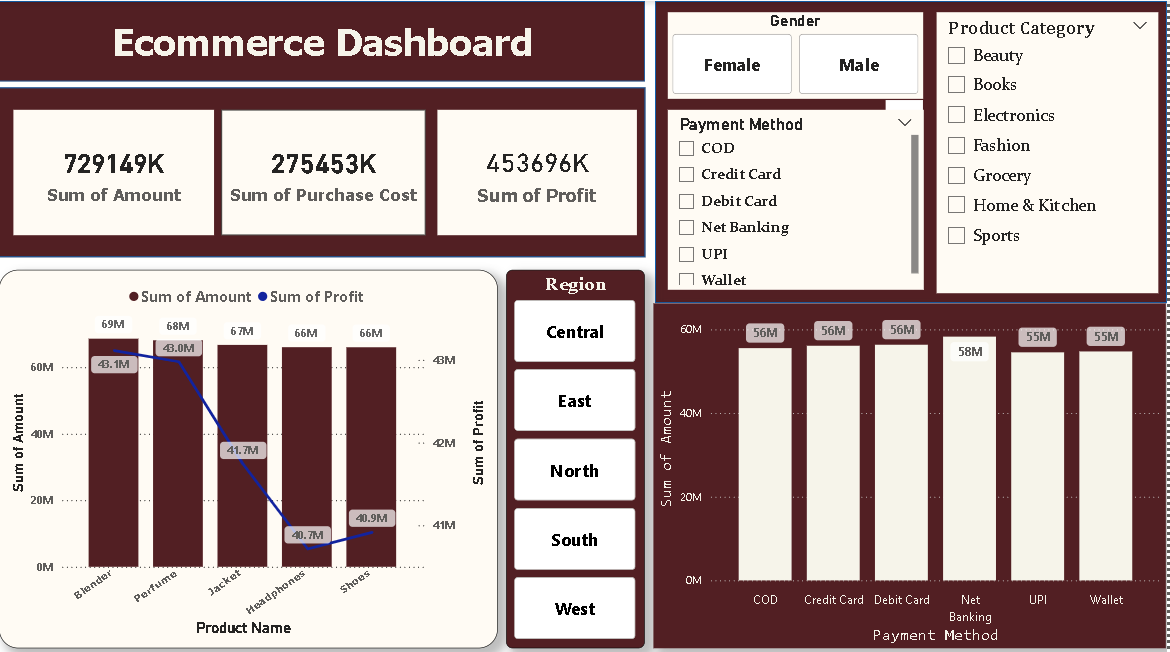

This screenshot's page, from the dashboard's own definition file:
{"tool":"powerbi","page":{"name":"Dashboard","canvas":[1280,720],"ordinal":0},"visuals":[{"type":"shape","box":[0,0,708.3,88.3],"z":0},{"type":"shape","box":[0,95,708.8,186.2],"z":1000},{"type":"card","fields":{"Values":["Sum(Ecommerce Sales Data.Amount)"]},"box":[15,120,220,137.5],"z":2000},{"type":"card","fields":{"Values":["Sum(Ecommerce Sales Data.Purchase Cost)"]},"box":[243.8,120,223.8,137.5],"z":3000},{"type":"card","fields":{"Values":["Sum(Ecommerce Sales Data.Profit)"]},"box":[480,120,218.8,137.5],"z":4000},{"type":"lineClusteredColumnComboChart","fields":{"Category":["Ecommerce Sales Data.Product Name"],"Y":["Sum(Ecommerce Sales Data.Amount)"],"Y2":["Sum(Ecommerce Sales Data.Profit)"]},"box":[0,295,546.7,415],"z":5000},{"type":"shape","box":[718.8,0,561.2,331.2],"z":6000},{"type":"slicer","fields":{"Values":["Ecommerce Sales Data.Product Category"]},"box":[1028.3,11.7,243.3,308.3],"z":7000},{"type":"advancedSlicerVisual","fields":{"Values":["Ecommerce Sales Data.Gender"]},"box":[733.3,11.7,280,95],"z":8000},{"type":"slicer","fields":{"Values":["Ecommerce Sales Data.Payment Method"]},"box":[733.3,120,280,196.7],"z":9000},{"type":"advancedSlicerVisual","fields":{"Values":["Ecommerce Sales Data.Region"]},"box":[556.7,295,151.7,415],"z":10000},{"type":"lineClusteredColumnComboChart","fields":{"Y":["Sum(Ecommerce Sales Data.Amount)"],"Category":["Ecommerce Sales Data.Payment Method","Ecommerce Sales Data.City"]},"box":[718.3,331.7,561.7,378.3],"z":11000}]}

Visuals, with their boxes in screenshot pixels (x1, y1, x2, y2), scaled from the page's 1280x720 canvas onto the 1170x652 screenshot:
shape: {"left": 0, "top": 0, "right": 647, "bottom": 80}
shape: {"left": 0, "top": 86, "right": 648, "bottom": 255}
card - Sum(Ecommerce Sales Data.Amount): {"left": 14, "top": 109, "right": 215, "bottom": 233}
card - Sum(Ecommerce Sales Data.Purchase Cost): {"left": 223, "top": 109, "right": 427, "bottom": 233}
card - Sum(Ecommerce Sales Data.Profit): {"left": 439, "top": 109, "right": 639, "bottom": 233}
lineClusteredColumnComboChart - Ecommerce Sales Data.Product Name x Sum(Ecommerce Sales Data.Amount): {"left": 0, "top": 267, "right": 500, "bottom": 643}
shape: {"left": 657, "top": 0, "right": 1169, "bottom": 300}
slicer - Ecommerce Sales Data.Product Category: {"left": 940, "top": 11, "right": 1162, "bottom": 290}
advancedSlicerVisual - Ecommerce Sales Data.Gender: {"left": 670, "top": 11, "right": 926, "bottom": 97}
slicer - Ecommerce Sales Data.Payment Method: {"left": 670, "top": 109, "right": 926, "bottom": 287}
advancedSlicerVisual - Ecommerce Sales Data.Region: {"left": 509, "top": 267, "right": 648, "bottom": 643}
lineClusteredColumnComboChart - Sum(Ecommerce Sales Data.Amount) x Ecommerce Sales Data.Payment Method: {"left": 657, "top": 300, "right": 1169, "bottom": 643}
